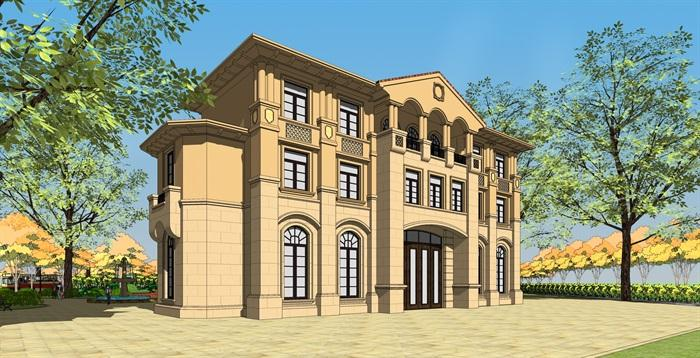buildings: (119, 52, 549, 322)
